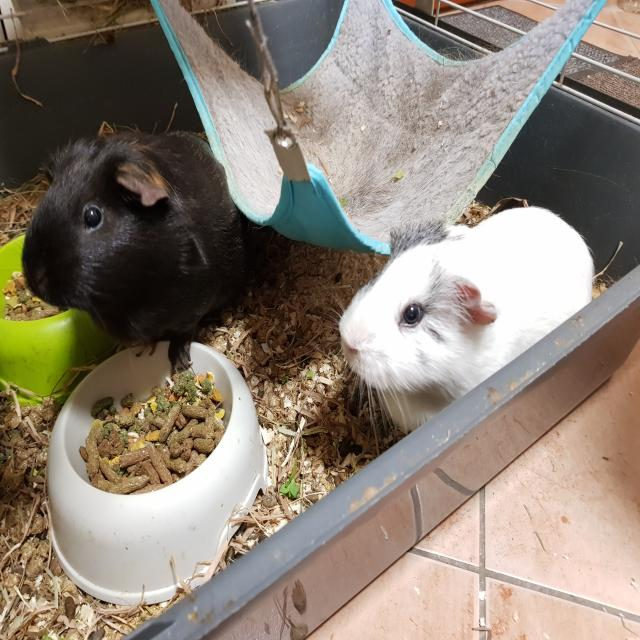guinea pig: (335, 201, 593, 433), (19, 128, 258, 374)
